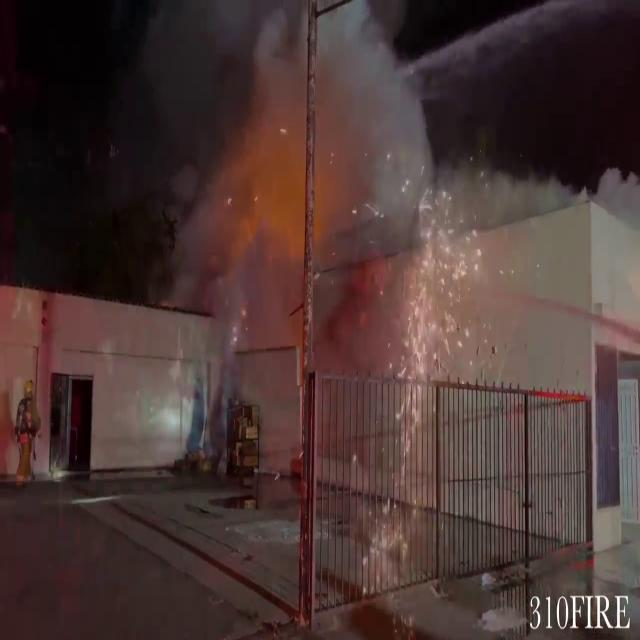Smoke: (116, 0, 640, 400)
